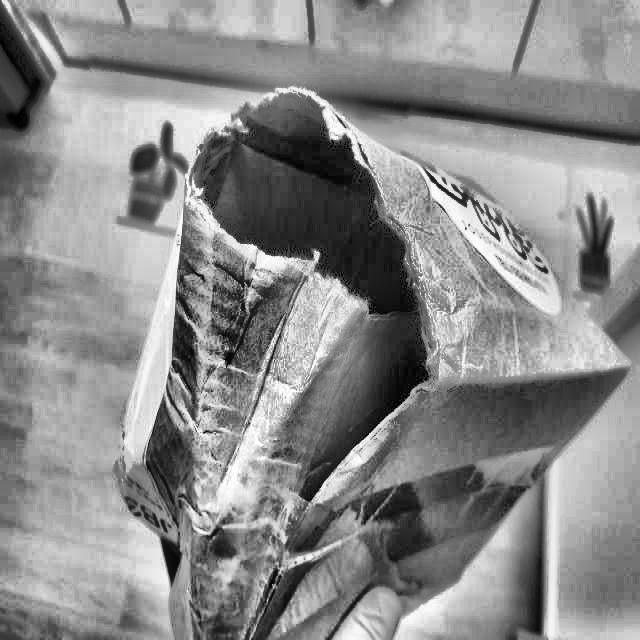box: (101, 61, 639, 639)
hole: (189, 84, 432, 407)
